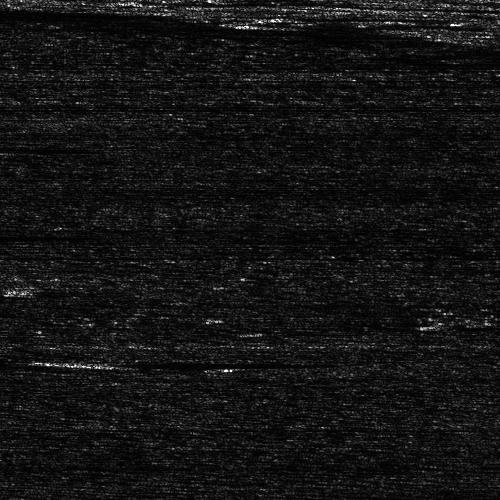rock: (37, 357, 142, 366), (0, 146, 14, 153)
shadow: (0, 355, 229, 364), (90, 357, 313, 366), (0, 232, 116, 237), (0, 146, 54, 153)
